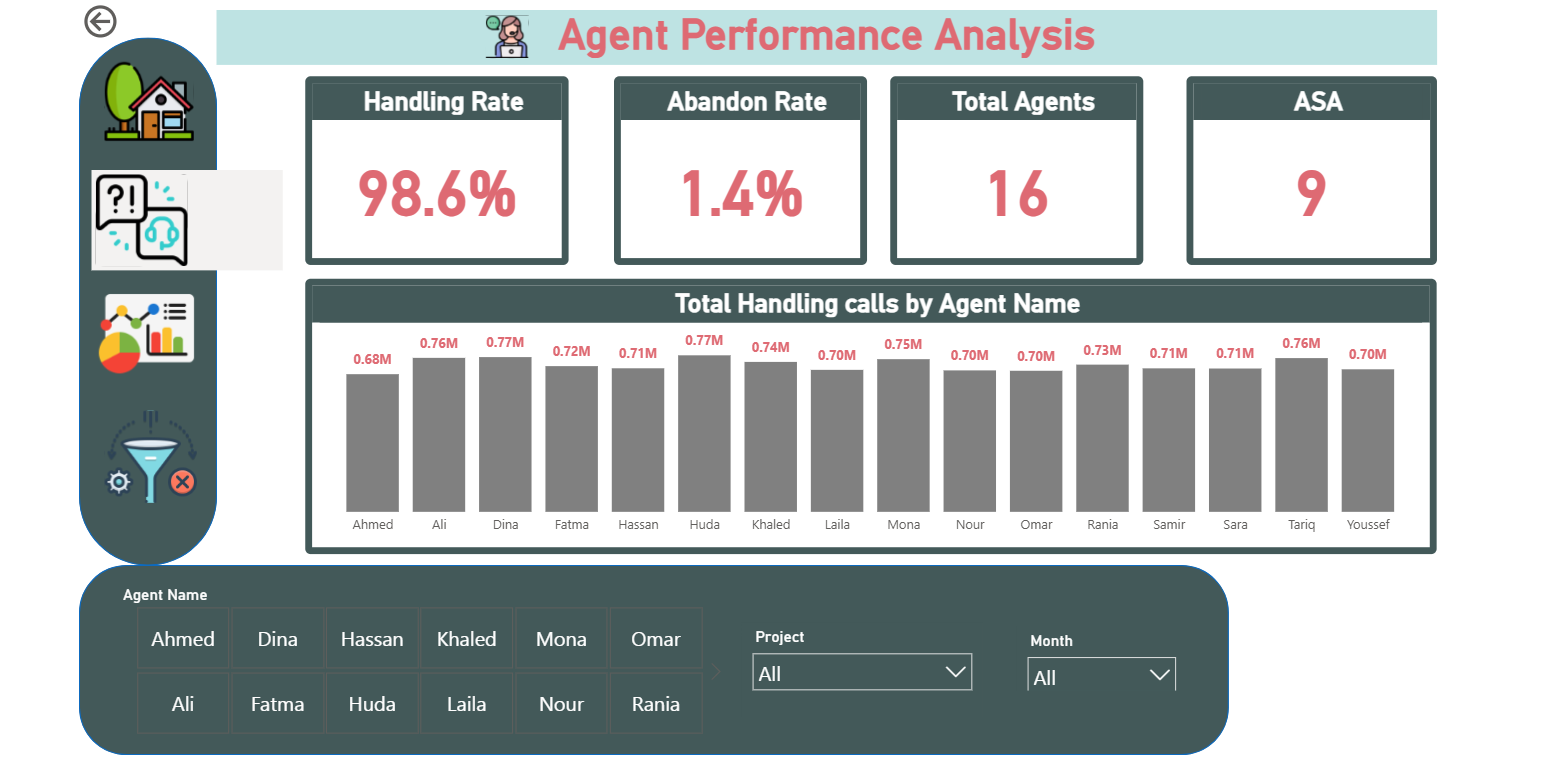

The dashboard page shown, as its layout file describes it:
{"tool":"powerbi","page":{"name":"Why ","canvas":[1280,720],"ordinal":2},"visuals":[{"type":"actionButton","title":"Agent Performance Analysis","box":[128.4,9.8,1138.5,51.4],"z":0},{"type":"actionButton","box":[375.4,11,220.1,47.7],"z":1000},{"type":"card","title":"Handling Rate","fields":{"Values":["Calender.Handling Rate"]},"box":[211.6,70.9,245.8,176.1],"z":2000},{"type":"card","title":"ASA ","fields":{"Values":["Calender.All ASA"]},"box":[1033.3,70.9,233.6,176.1],"z":3000},{"type":"card","title":"Abandon Rate","fields":{"Values":["Calender.Abandon Rate"]},"box":[498.9,70.9,236,176.1],"z":4000},{"type":"card","title":"Total Agents","fields":{"Values":["Count(Mar.Agent Name)"]},"box":[756.9,70.9,236,176.1],"z":5000},{"type":"actionButton","box":[0,0,100,40],"z":6000},{"type":"shape","box":[0,40.4,128.4,486.7],"z":7000},{"type":"actionButton","box":[19.6,58.7,160.2,90.5],"z":8000},{"type":"actionButton","box":[19.6,166.3,178.5,94.2],"z":9000},{"type":"actionButton","box":[19.6,379.1,207.9,94.2],"z":10000},{"type":"shape","box":[0,527,1072.4,177.3],"z":12000},{"type":"slicer","fields":{"Values":["Mar.Agent Name"]},"box":[28.1,540.5,577.2,150.4],"z":13000},{"type":"slicer","fields":{"Values":["Mar.Project"]},"box":[617.5,580.8,225,88],"z":14000},{"type":"slicer","fields":{"Values":["Calender.Date.Variation.Date Hierarchy.Month"]},"box":[874.3,584.5,159,59.9],"z":15000},{"type":"clusteredColumnChart","fields":{"Category":["Mar.Agent Name"],"Y":["Calender.Total Handling calls"]},"box":[211.6,260.5,1055.3,256.8],"z":16000},{"type":"actionButton","box":[19.6,276.4,239.7,102.7],"z":16001}]}

Visuals, with their boxes on the page's 1280x720 design canvas (x1, y1, x2, y2). These are canvas units, not pixel positions in the 1547x768 screenshot, which may show the page scaled, cropped or inside an application window:
"Agent Performance Analysis" actionButton: bbox=[128, 10, 1267, 61]
actionButton: bbox=[375, 11, 596, 59]
"Handling Rate" card: bbox=[212, 71, 457, 247]
"ASA " card: bbox=[1033, 71, 1267, 247]
"Abandon Rate" card: bbox=[499, 71, 735, 247]
"Total Agents" card: bbox=[757, 71, 993, 247]
actionButton: bbox=[0, 0, 100, 40]
shape: bbox=[0, 40, 128, 527]
actionButton: bbox=[20, 59, 180, 149]
actionButton: bbox=[20, 166, 198, 260]
actionButton: bbox=[20, 379, 228, 473]
shape: bbox=[0, 527, 1072, 704]
slicer - Mar.Agent Name: bbox=[28, 540, 605, 691]
slicer - Mar.Project: bbox=[618, 581, 842, 669]
slicer - Calender.Date.Variation.Date Hierarchy.Month: bbox=[874, 584, 1033, 644]
clusteredColumnChart - Mar.Agent Name x Calender.Total Handling calls: bbox=[212, 260, 1267, 517]
actionButton: bbox=[20, 276, 259, 379]
